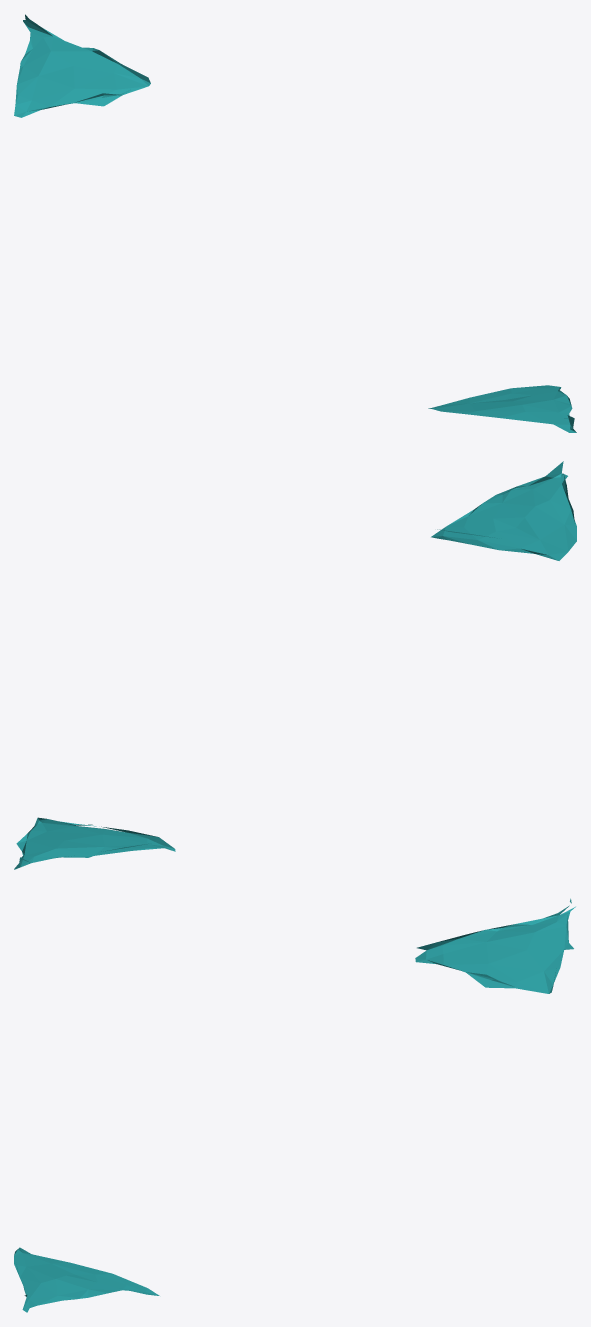
3 renders of one model, top to bottom at view 1: azimuth 30°, elevation 25°; view 2: azimuth 150°, elevation 25°; view 3: azimuth 330°, elevation 25°, orthographic.
Visible parts, largest first — view 1: 441.obj; view 2: 441.obj; view 3: 441.obj.
Boxes of the visible parts, x1,y1,x2,y2 form: 441.obj: (14, 14, 576, 432); 441.obj: (14, 461, 576, 869); 441.obj: (14, 898, 575, 1312).
Bounding box in the file's own units: 589 × 150 × 3835.
